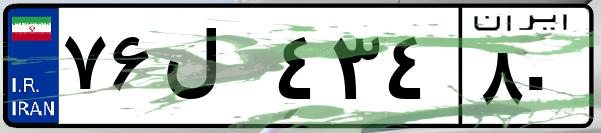0: (525, 38, 570, 115)
3: (330, 28, 385, 110)
4: (270, 28, 330, 110), (385, 28, 445, 110)
6: (110, 28, 158, 98)
7: (57, 26, 110, 100)
8: (475, 38, 525, 113)
ل: (158, 20, 270, 120)
